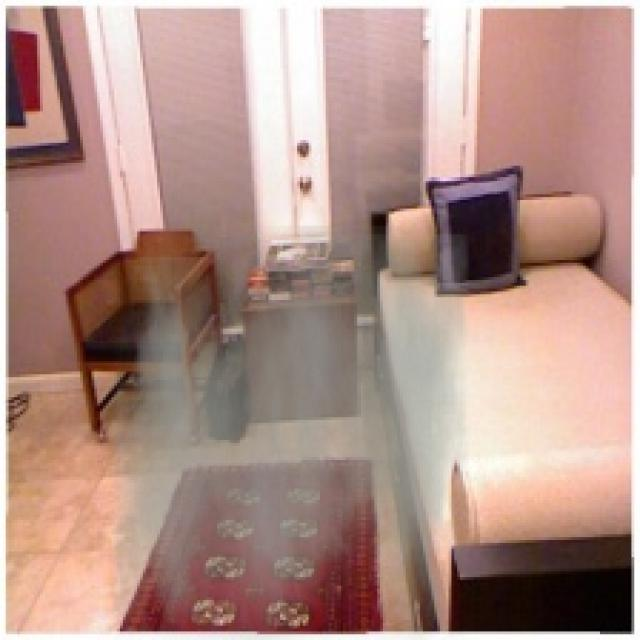smoke: (111, 226, 472, 637)
